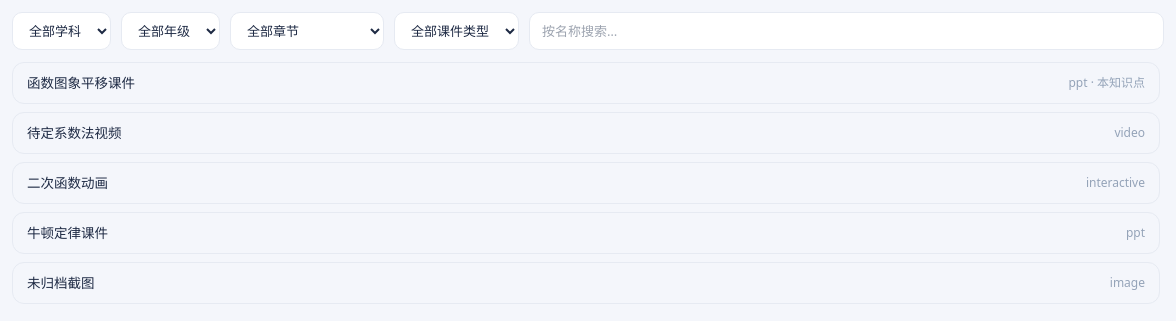
Scenario: GroupedPicker · 挂载课件场景(学科›年级›章节 + 类型) › 类型筛选(kind):仅 ppt
Select "PPT" in the dropdown named "课件类型": (456, 31) [394,12,519,50]
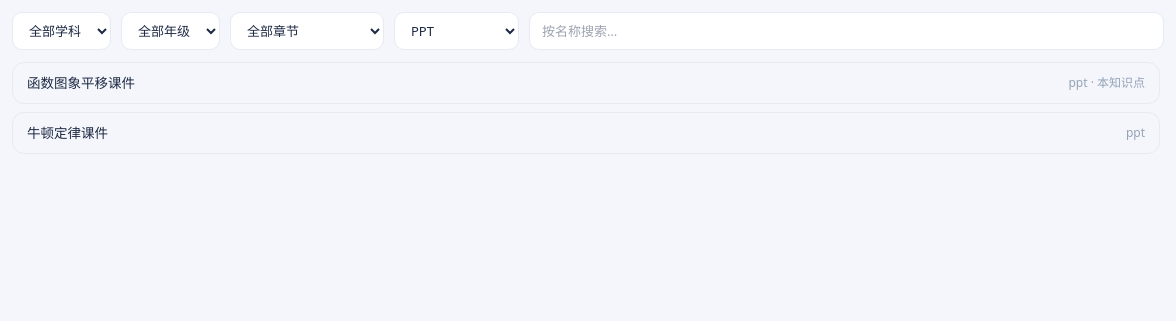
Expected: the text "函数图象平移课件" is shown, [27,73,135,93]
Expected: the text "待定系数法视频" is gone
